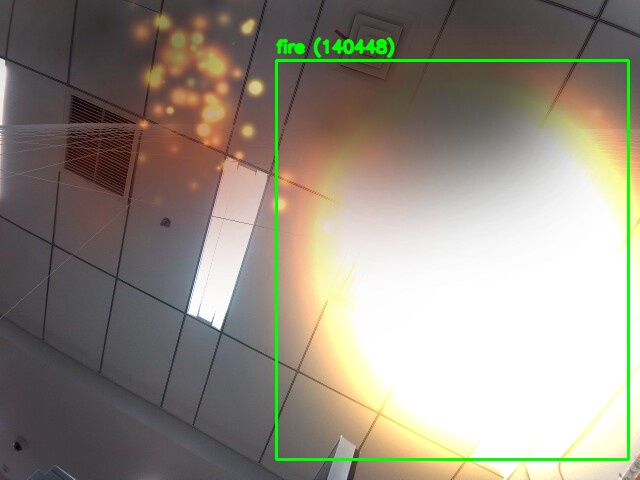fire: (276, 60, 628, 459)
